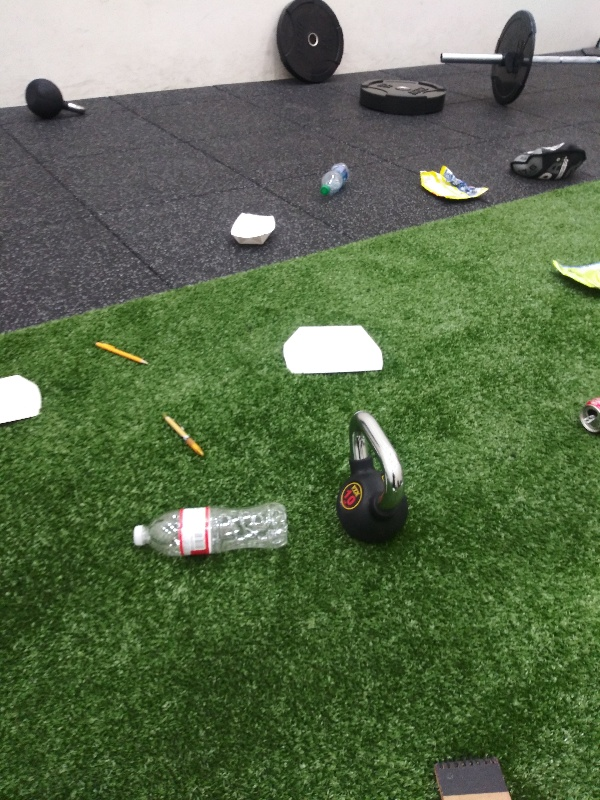bag: (418, 163, 494, 204), (544, 250, 600, 301)
bottle: (124, 502, 292, 562), (317, 158, 355, 202)
can: (573, 392, 600, 439)
plate: (281, 321, 386, 380), (1, 368, 47, 428), (224, 210, 283, 247)
